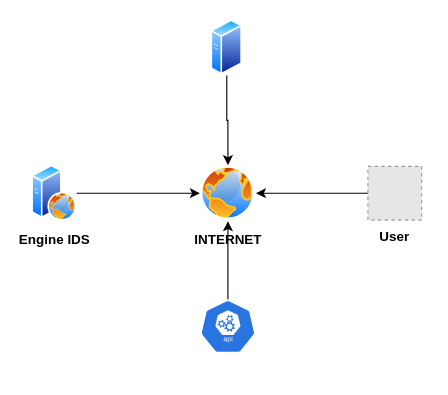
This 448x395 diagram has some shape labels left out. Grey dashed boxes stand in for pictures. The centre of each missing label's shape, as x and y in pixels:
"App Interfaces" goes at (227,325).
"Server Telegram" goes at (226,47).
